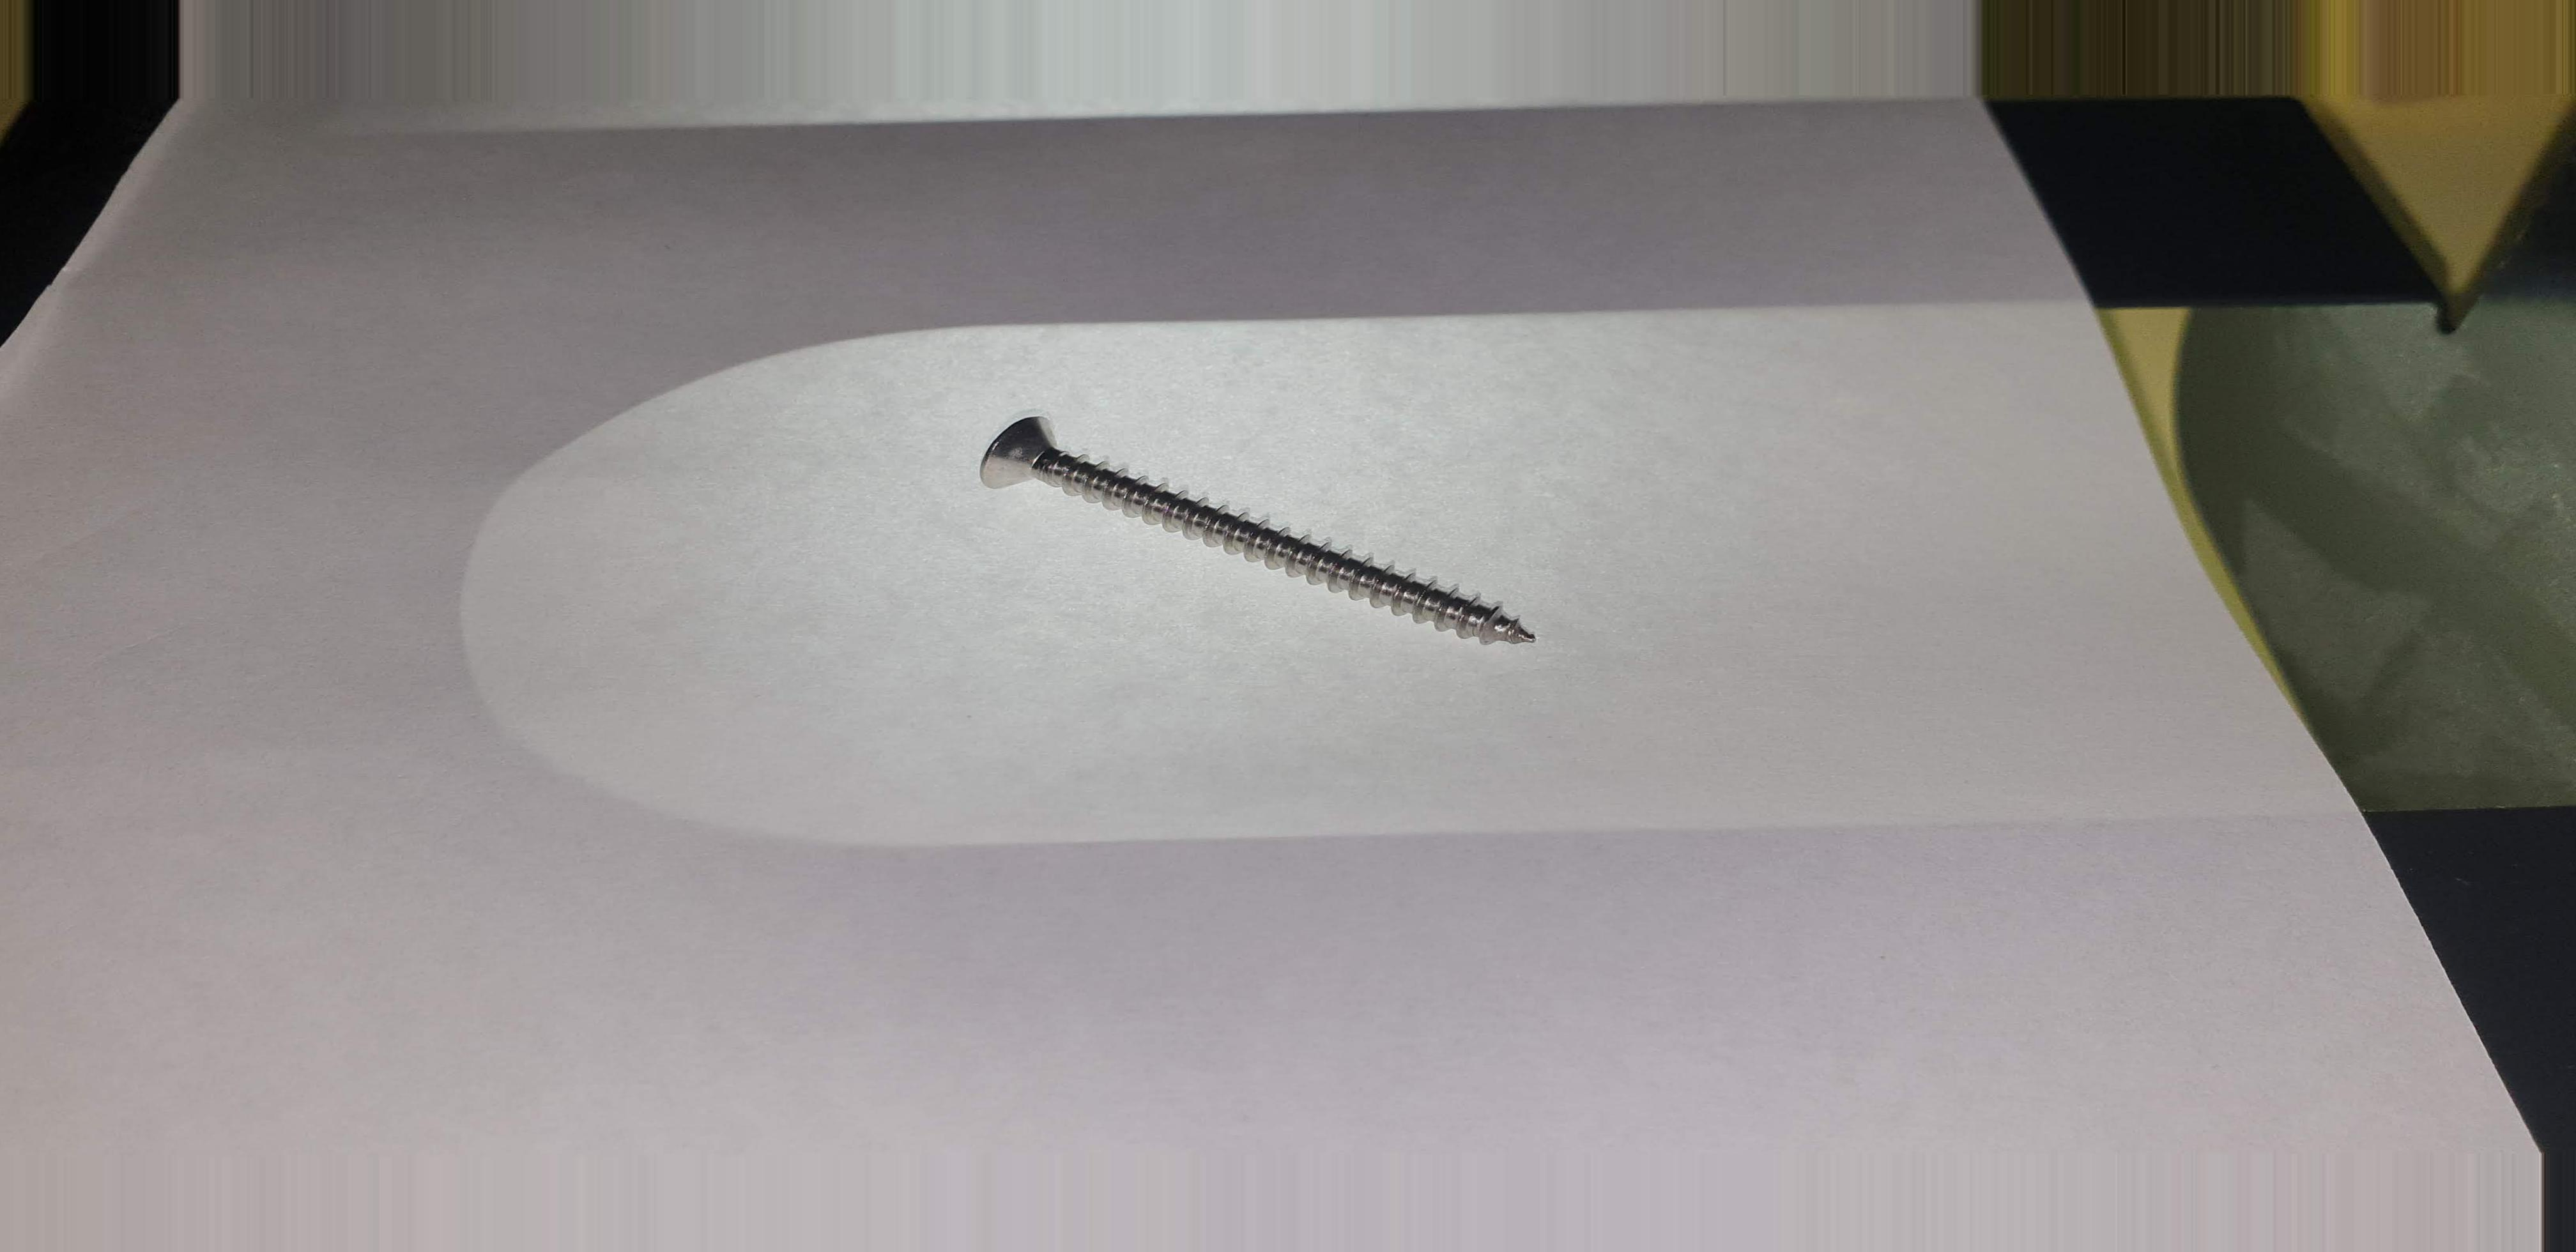fastener: (935, 380, 1610, 692)
